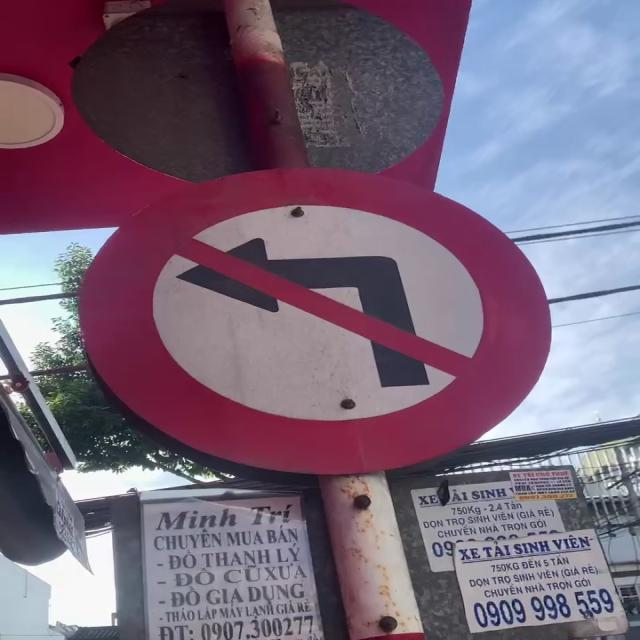Cam_Re_Trai: (77, 167, 552, 476)
